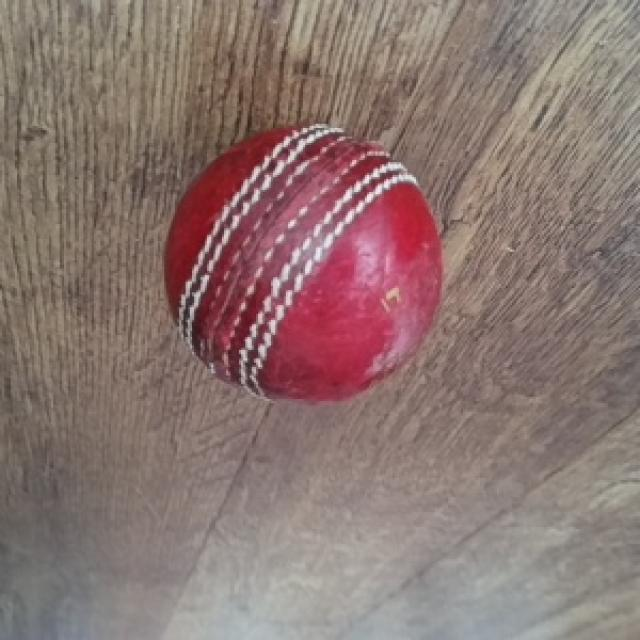ball: (162, 126, 446, 407)
